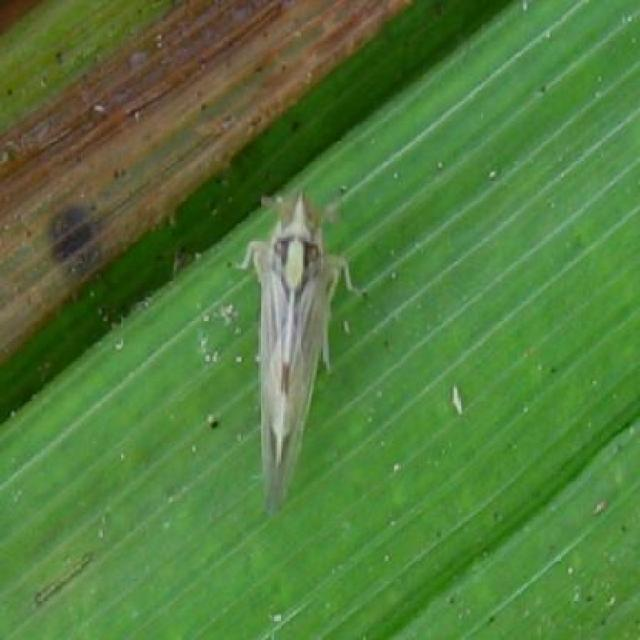brown-planthopper: (241, 192, 342, 514)
